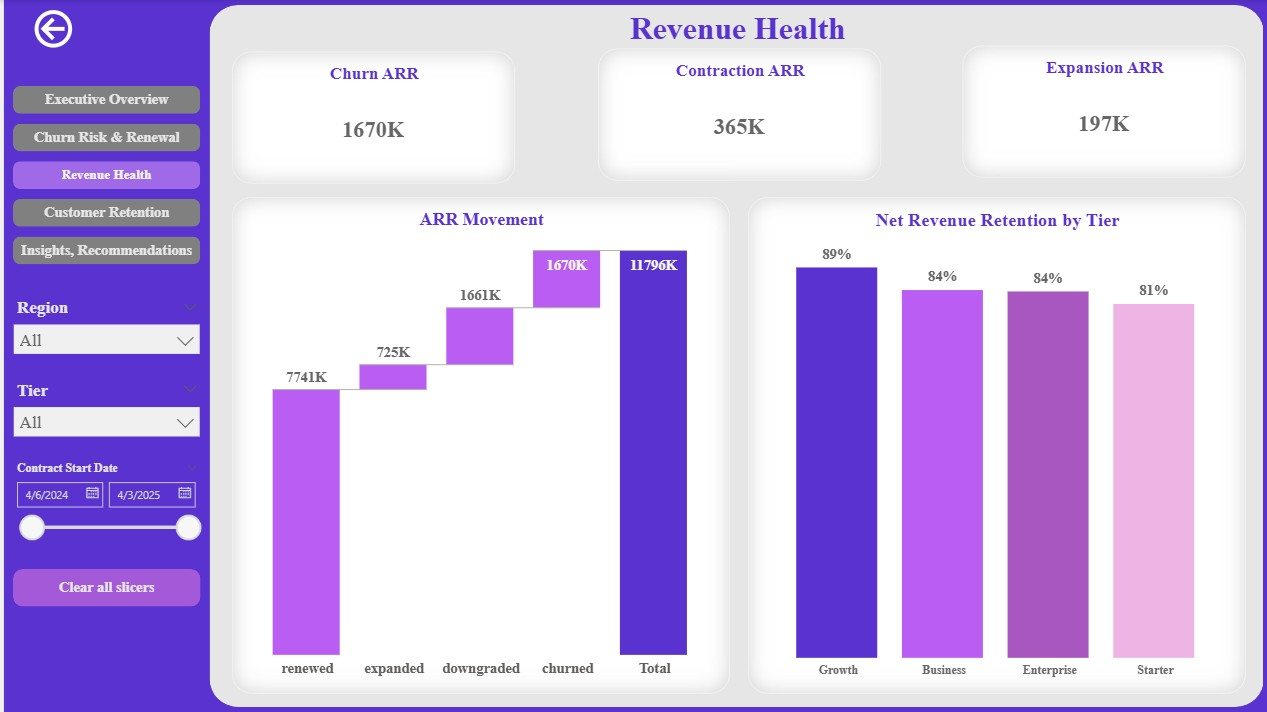

What the dashboard file says about the page in this screenshot:
{"tool":"powerbi","page":{"name":"Revenue Health","canvas":[1280,720],"ordinal":2},"visuals":[{"type":"shape","box":[207.4,6.1,1064.5,708.6],"z":0},{"type":"actionButton","box":[9.1,575.4,189.3,37.9],"z":1000},{"type":"pageNavigator","box":[9.1,87.8,189.3,183.2],"z":2000},{"type":"waterfallChart","title":"ARR Movement","fields":{"Category":["renewals.outcome"],"Y":["Sum(renewals.previous_arr)"]},"box":[230.2,199.9,502.7,501.2],"z":3000},{"type":"textbox","box":[216.7,6.4,1048.3,96.3],"z":4000},{"type":"actionButton","box":[25.7,6.4,115.6,48.2],"z":5000},{"type":"slicer","fields":{"Values":["accounts.region"]},"box":[0,296.8,207.4,81.8],"z":8000},{"type":"slicer","fields":{"Values":["accounts.tier"]},"box":[0,380.1,207.4,80.3],"z":9000},{"type":"slicer","fields":{"Values":["accounts.contract_start"]},"box":[0,461.8,207.4,113.6],"z":10000},{"type":"cardVisual","title":"Churn ARR","fields":{"Data":["Measure Table.Churn ARR"]},"box":[230.2,52.7,286.2,133.3],"z":11000},{"type":"cardVisual","title":"Contraction ARR","fields":{"Data":["Measure Table.Contraction ARR"]},"box":[598.9,49.8,286.2,133.3],"z":12000},{"type":"cardVisual","title":"Expansion ARR","fields":{"Data":["Measure Table.Expansion ARR"]},"box":[967.6,46.9,286.2,133.3],"z":13000},{"type":"clusteredColumnChart","title":"Net Revenue Retention by Tier","fields":{"Y":["Measure Table.NRR"],"Category":["accounts.tier"]},"box":[751,199.9,502.7,501.2],"z":14000}]}

Visuals, with their boxes in screenshot pixels (x1, y1, x2, y2), scaled from the page's 1280x720 canvas onto the 1267x712 screenshot:
shape: crop(205, 6, 1259, 707)
actionButton: crop(9, 569, 196, 606)
pageNavigator: crop(9, 87, 196, 268)
"ARR Movement" waterfallChart: crop(228, 198, 725, 693)
textbox: crop(214, 6, 1252, 102)
actionButton: crop(25, 6, 140, 54)
slicer - accounts.region: crop(0, 294, 205, 374)
slicer - accounts.tier: crop(0, 376, 205, 455)
slicer - accounts.contract_start: crop(0, 457, 205, 569)
"Churn ARR" cardVisual: crop(228, 52, 511, 184)
"Contraction ARR" cardVisual: crop(593, 49, 876, 181)
"Expansion ARR" cardVisual: crop(958, 46, 1241, 178)
"Net Revenue Retention by Tier" clusteredColumnChart: crop(743, 198, 1241, 693)
